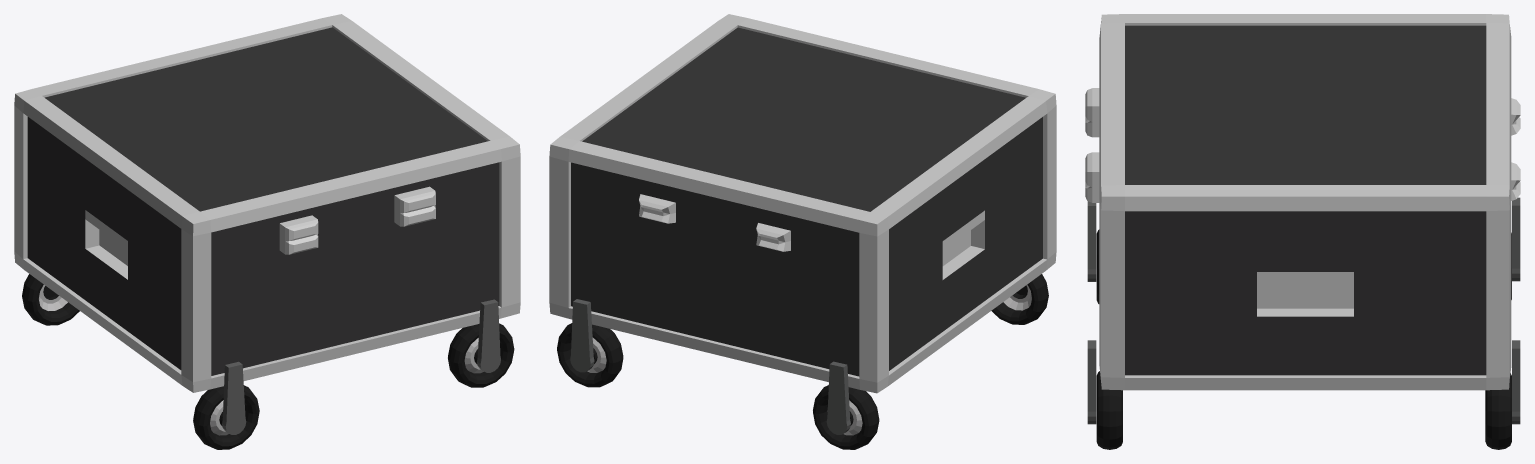
The model's file is SmallWheelBox.fbx.
The picture shows the model from 3 angles, left to right: view 1: azimuth 30°, elevation 25°; view 2: azimuth 150°, elevation 25°; view 3: azimuth 270°, elevation 25°; orthographic projection. The views are drawn at different scales.
Parts seen in each view (by area): view 1: SmallWheelBox; view 2: SmallWheelBox; view 3: SmallWheelBox.
Boxes of the visible parts, x1,y1,x2,y2 form: SmallWheelBox: [14, 14, 520, 449]; SmallWheelBox: [549, 14, 1056, 449]; SmallWheelBox: [1085, 14, 1520, 449].
Size of the model in its own units: 100 by 68.47 by 100.
